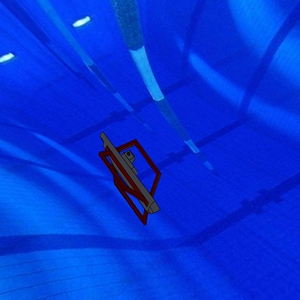submarine: (90, 122, 169, 225)
